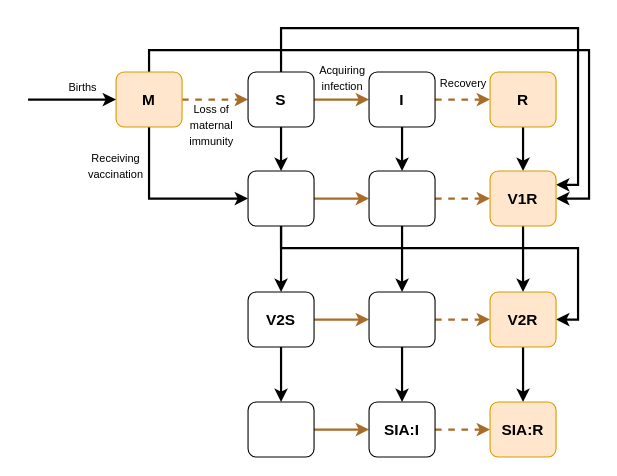
Some shapes in this 617 by 476 pixel diagram are drawn without their labels. Here are the shapes that lost their labels. From the top down, the centre of each, then its label:
At point 280,198: "V1S".
At point 401,198: "V1I".
At point 401,319: "V2I".
At point 280,429: "SIA:S".
